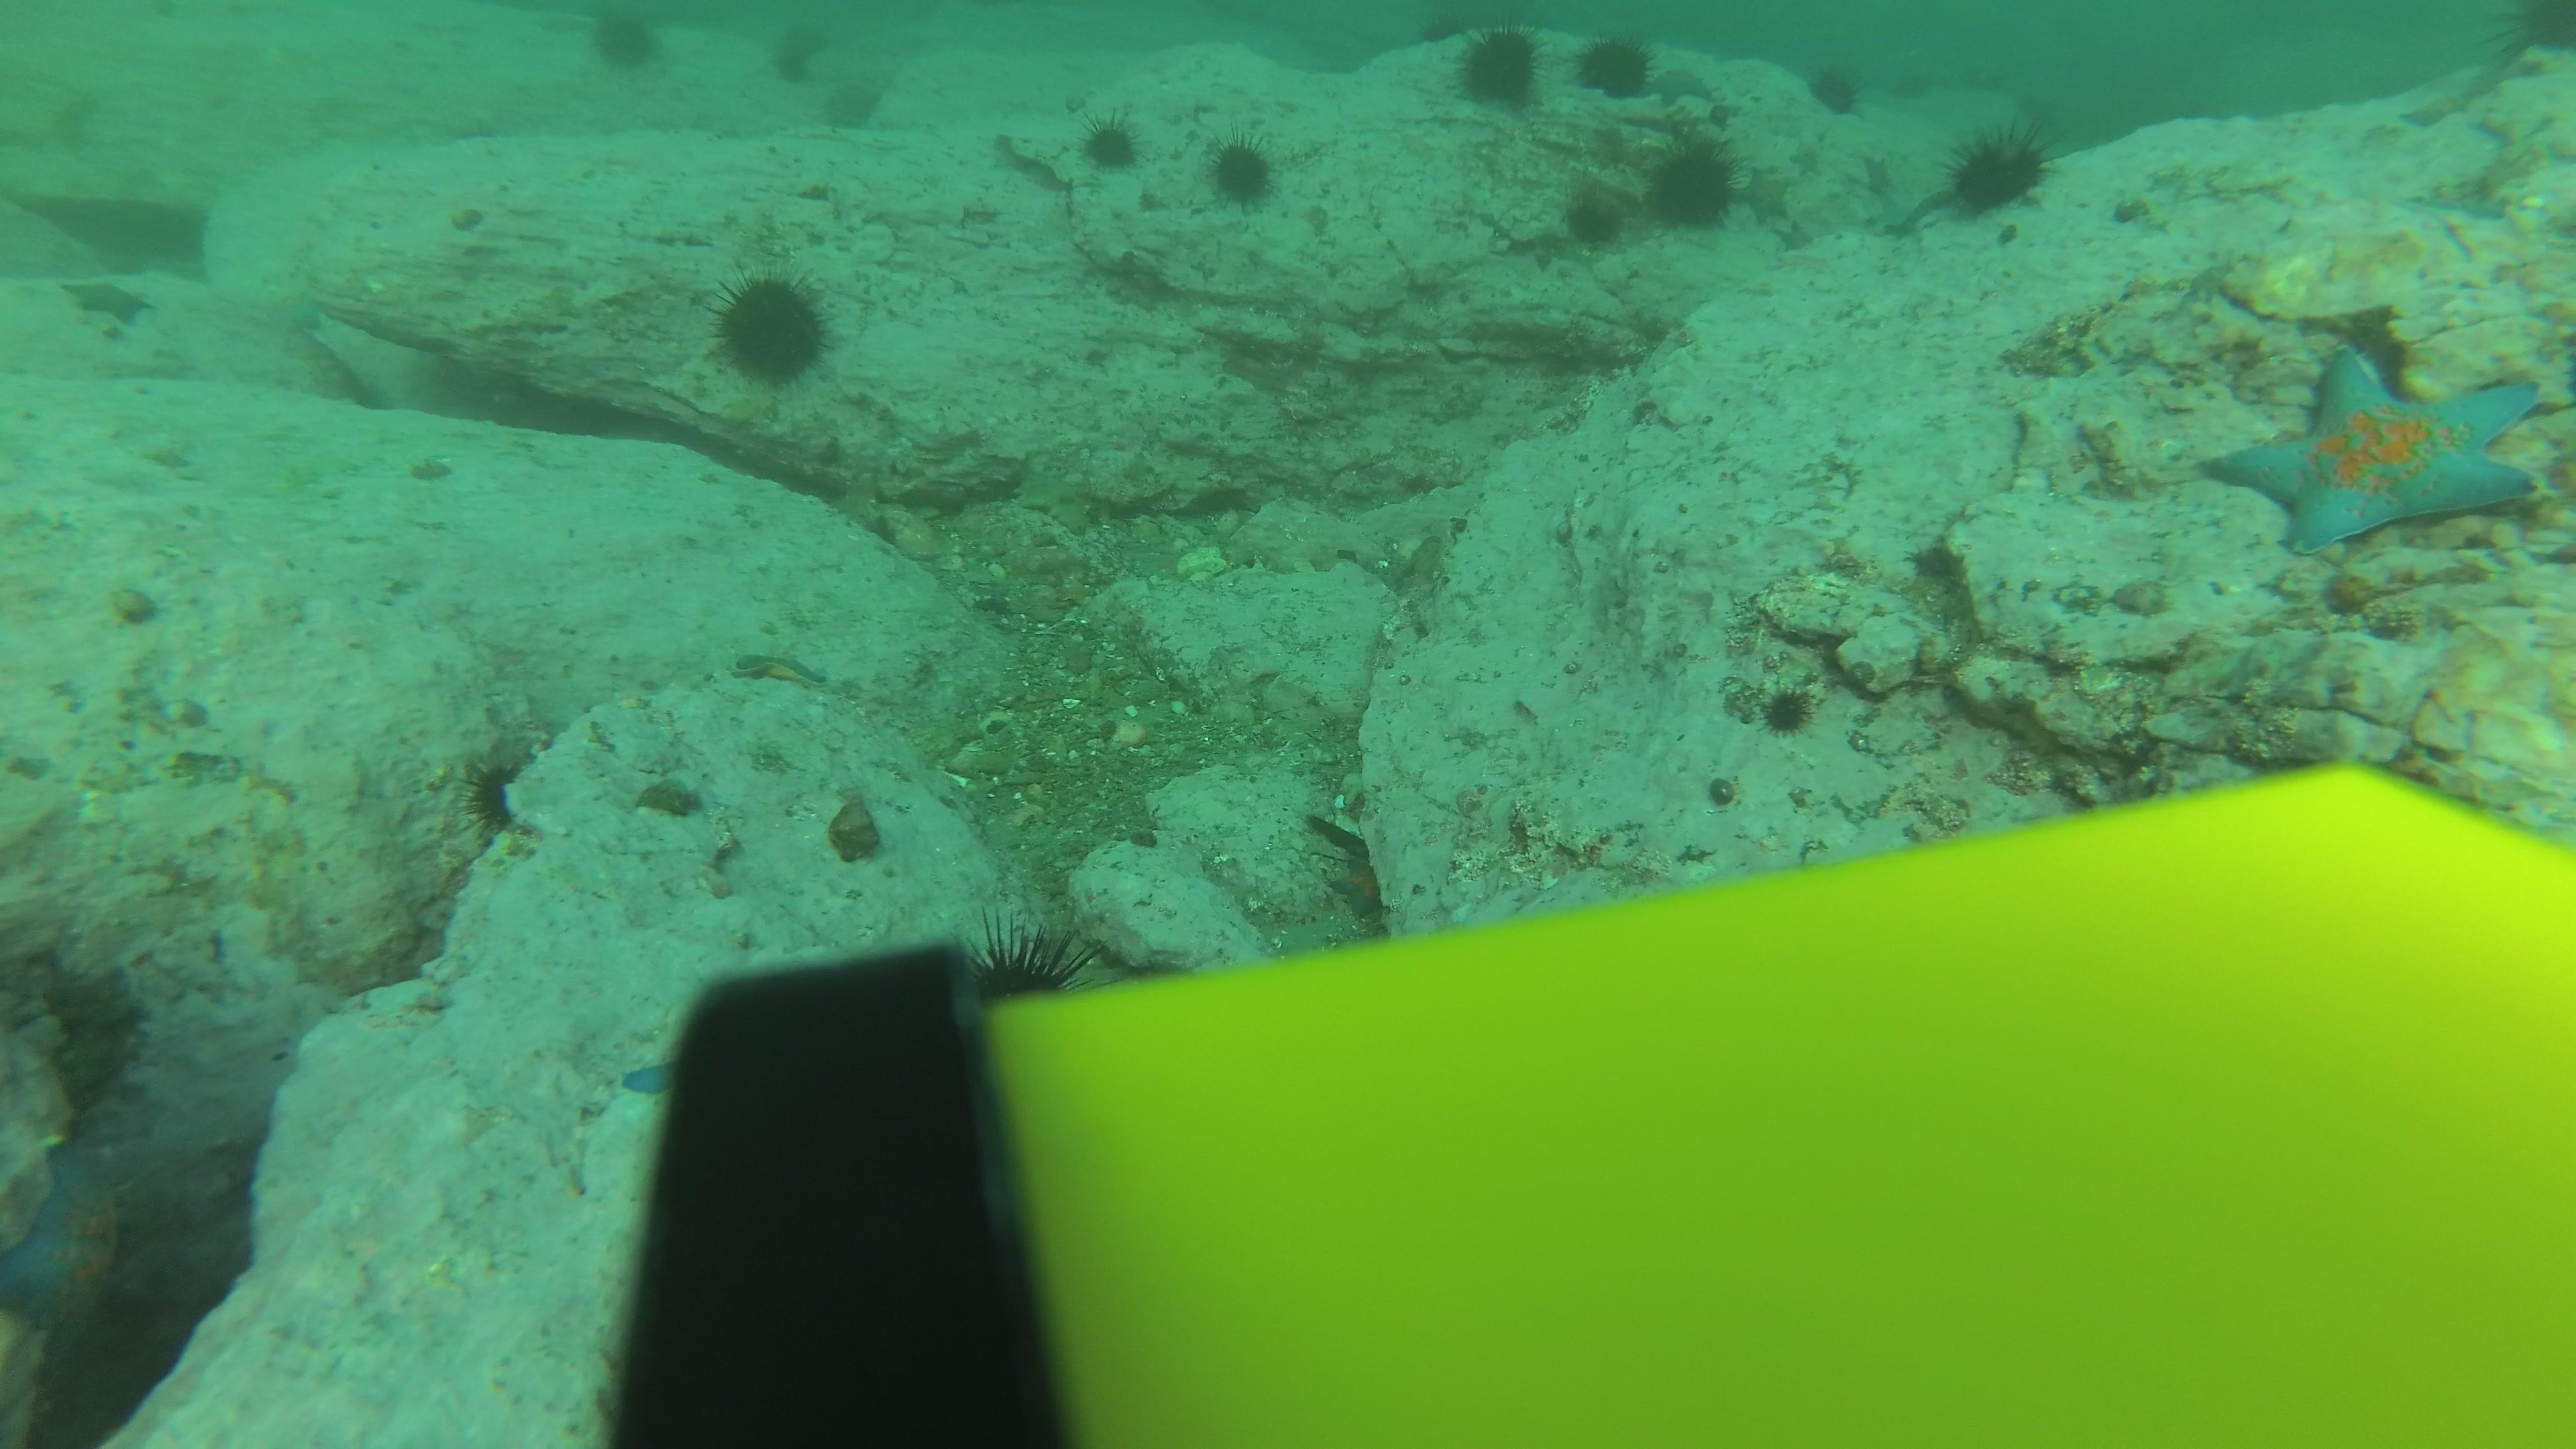echinus: (947, 916, 1099, 1021), (708, 267, 835, 389), (1939, 119, 2056, 221), (1644, 134, 1744, 234), (1447, 23, 1546, 113), (1205, 131, 1283, 211), (1573, 30, 1658, 103), (582, 5, 669, 76), (1559, 184, 1628, 249), (761, 34, 828, 99), (1077, 110, 1143, 175), (819, 74, 885, 138), (1805, 58, 1865, 119)
starfish: (2201, 338, 2551, 557), (2, 1145, 136, 1355), (1316, 828, 1392, 924), (2388, 64, 2493, 133), (57, 269, 157, 331), (1854, 150, 1921, 237), (727, 642, 833, 694), (1736, 163, 1799, 225), (1645, 58, 1720, 108), (616, 1049, 679, 1104)
